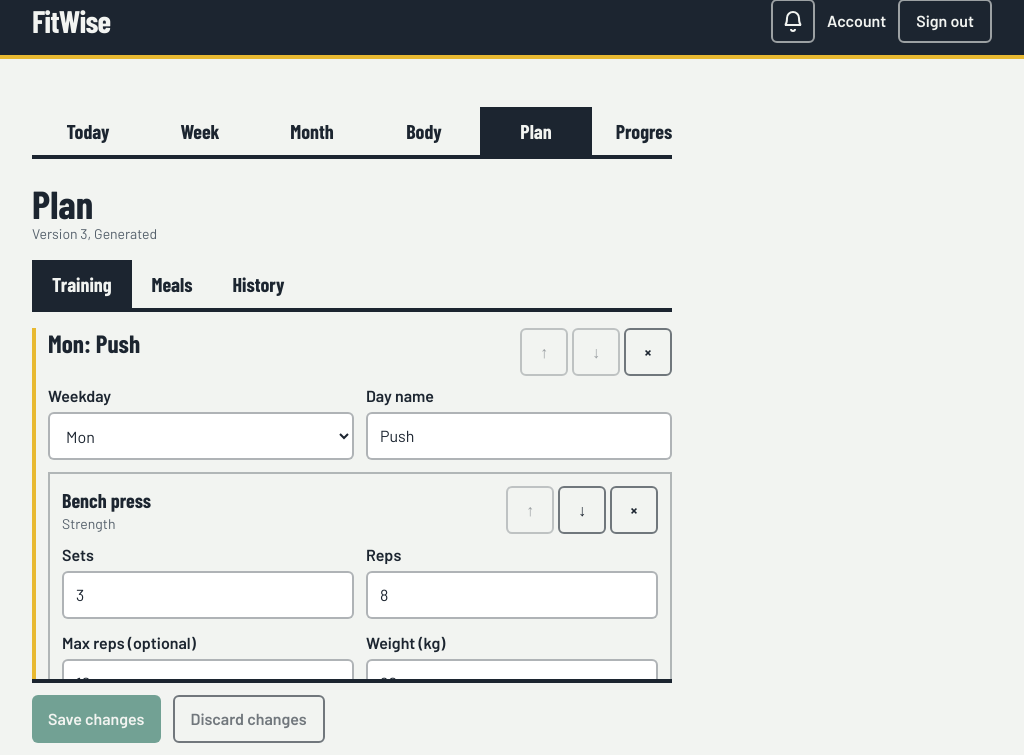
Plan editor: meals › keeps the id of an edited meal and sends the portion
The image size is (1024, 755).
Expected: the heading "Plan" is shown, [32,180,93,227]
Expected: the heading "Mon: Push" is shown, [48,328,140,358]
Click the tab "Meals": (172,284) [132,260,212,308]
(page scrolled)
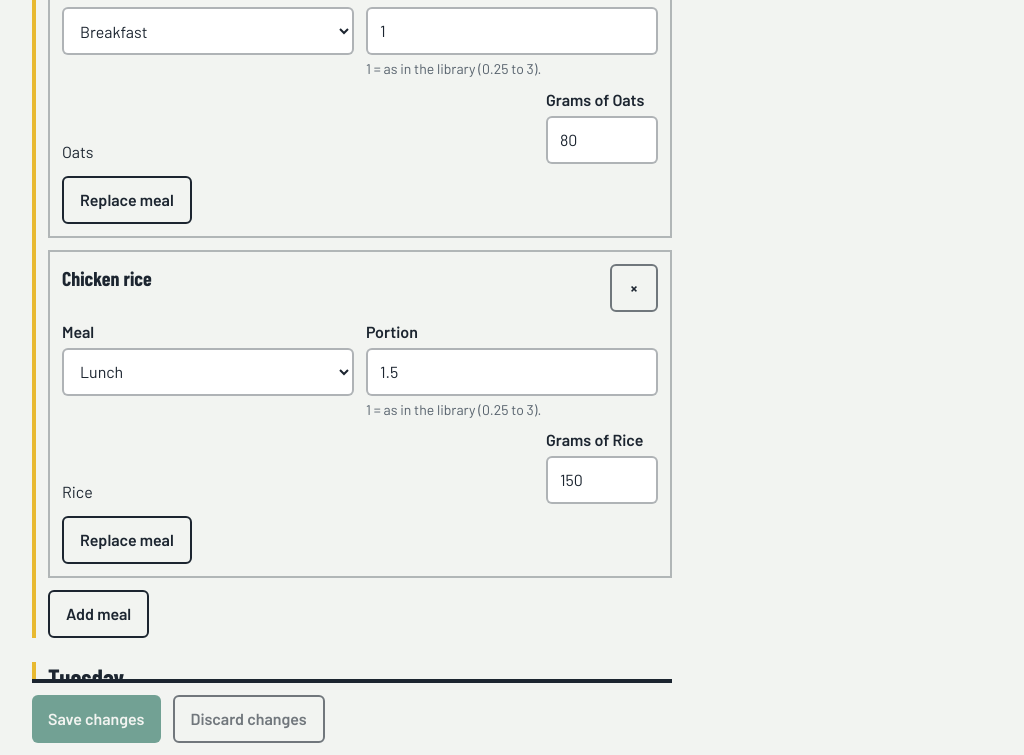
Replace the text in the field labelled "Portion" below "Chicken rice" with "2": (512,372) [366,348,658,396]
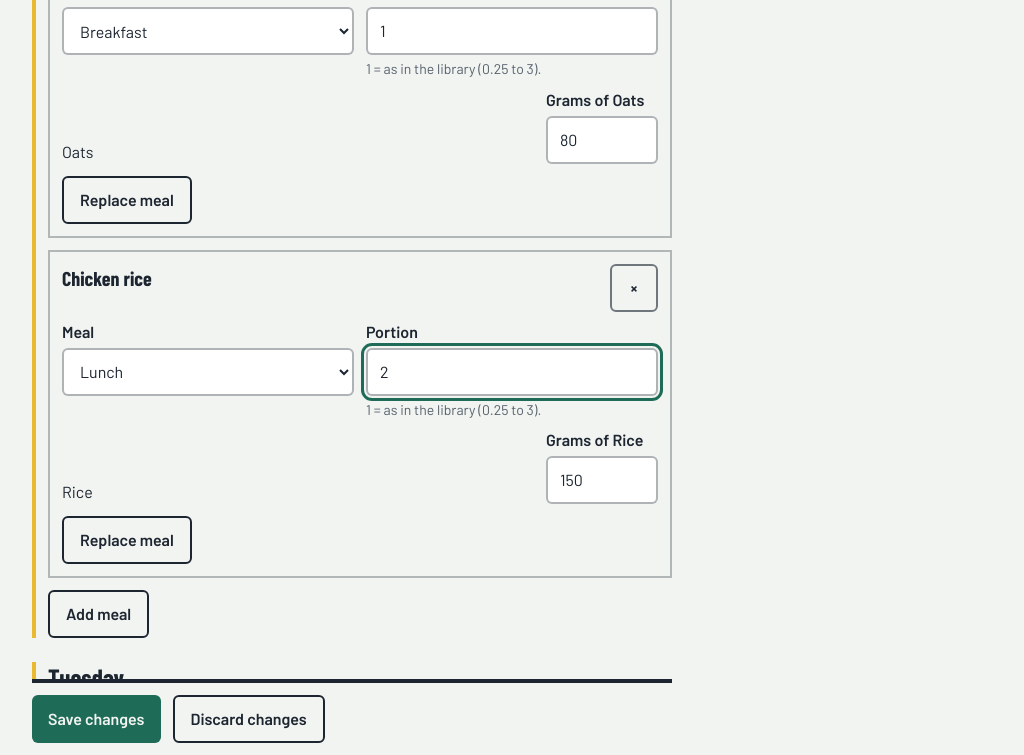
Click the button "Save changes": (96,719) [32,695,160,743]
(page scrolled)
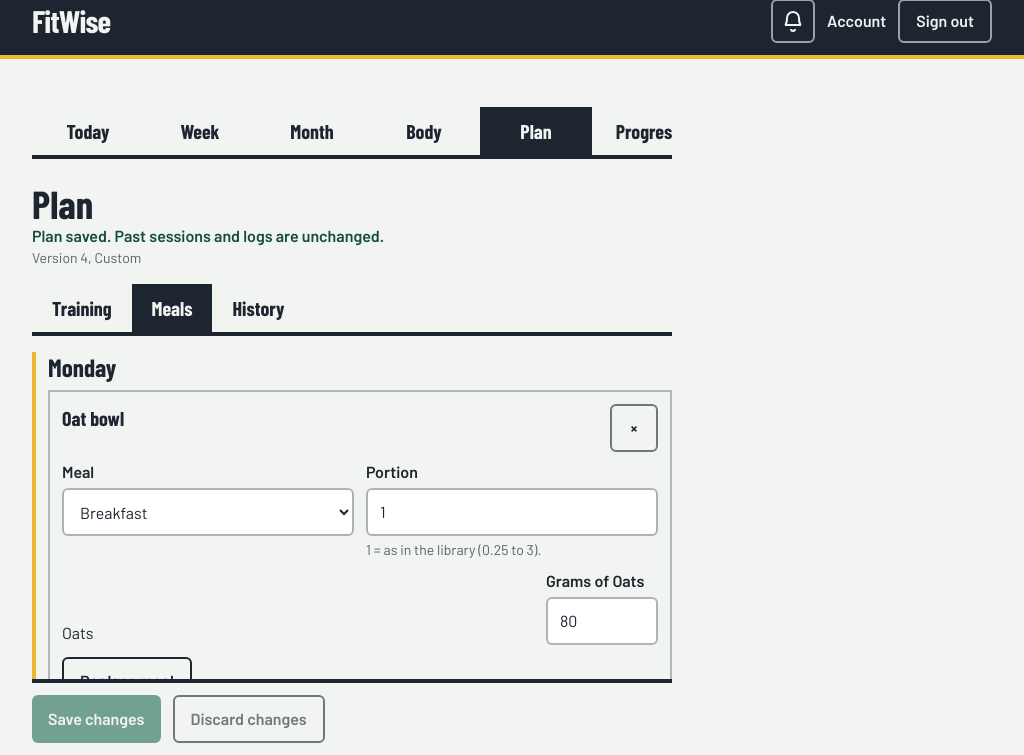
Result: the text "Plan saved. Past sessions and logs are unchanged." is shown at [32,226,384,245]
